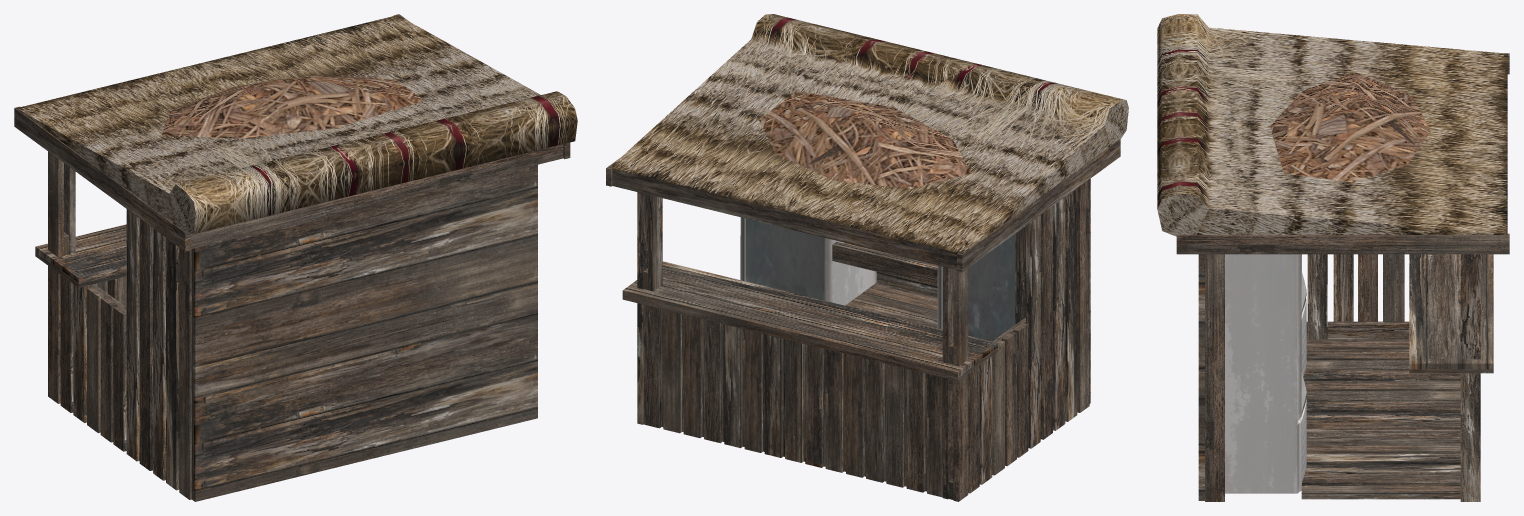
Rendered from Bar.fbx.
The picture shows the model from 3 angles, left to right: view 1: azimuth 30°, elevation 25°; view 2: azimuth 150°, elevation 25°; view 3: azimuth 270°, elevation 25°; orthographic projection. The views are drawn at different scales.
Parts seen in each view (by area): view 1: Bar; view 2: Bar; view 3: Bar.
Part boxes in pixels (<box>): Bar: <box>14,14,577,501</box>; Bar: <box>606,14,1128,501</box>; Bar: <box>1157,14,1509,501</box>.
Size of the model in its own units: 354 by 286 by 288.
